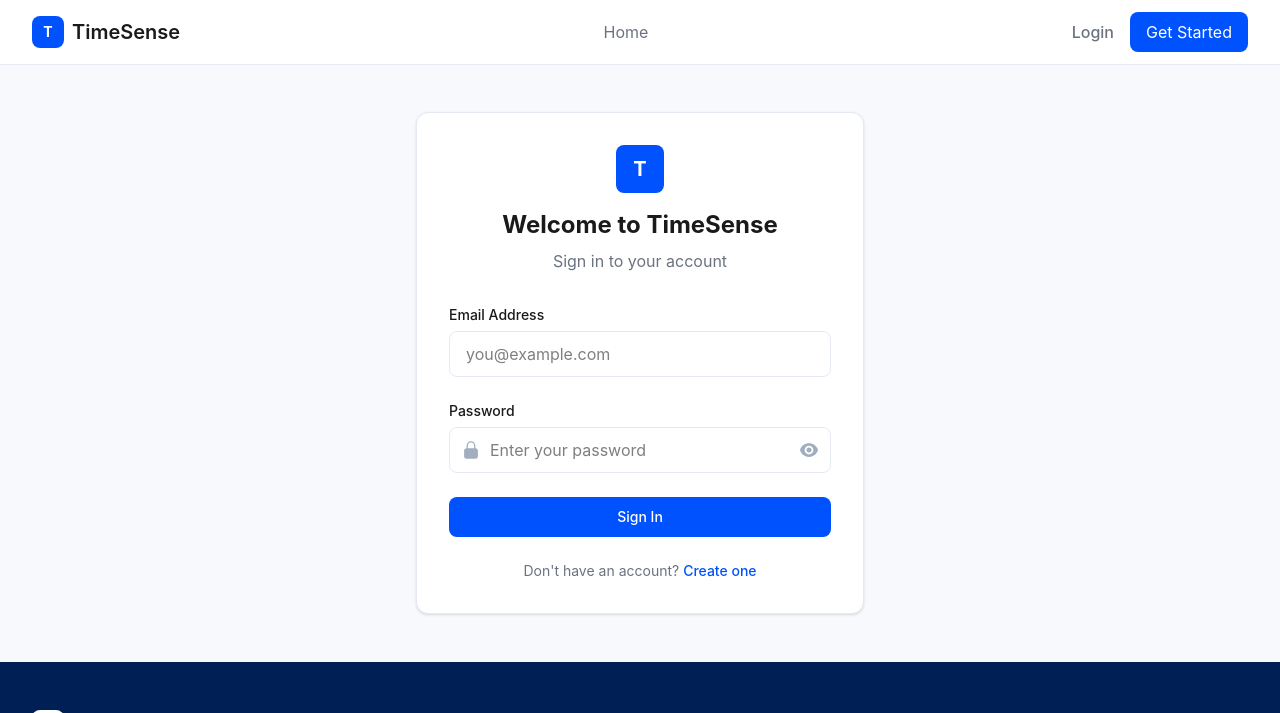
it: Login Page › Form Validation › should show error when email is empty
Click the button with test id "login-button" at x=640, y=517, box 449,497 -> 831,537
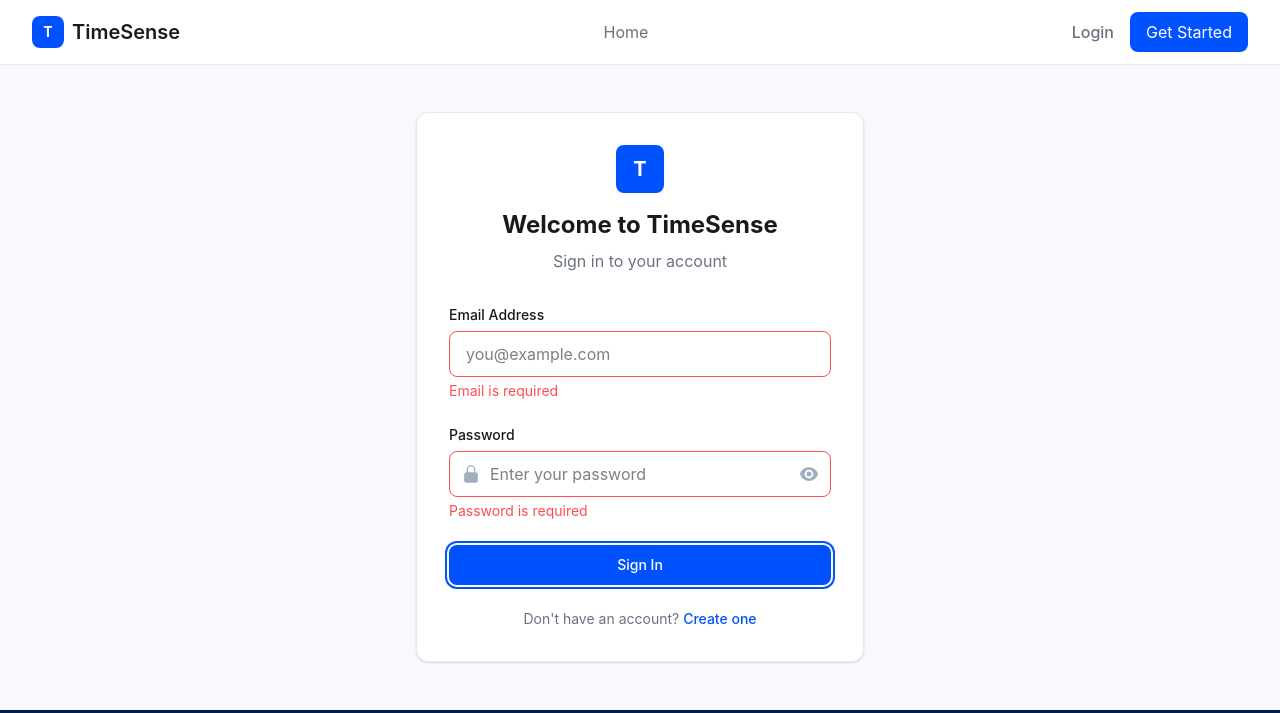
Now the text with test id "email-error" reads "Email is required", box 449,382 -> 558,399
